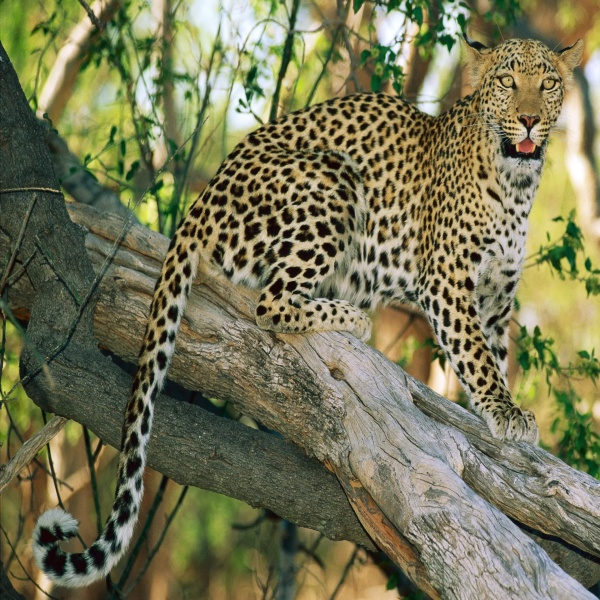Leopard: (32, 31, 589, 591)
